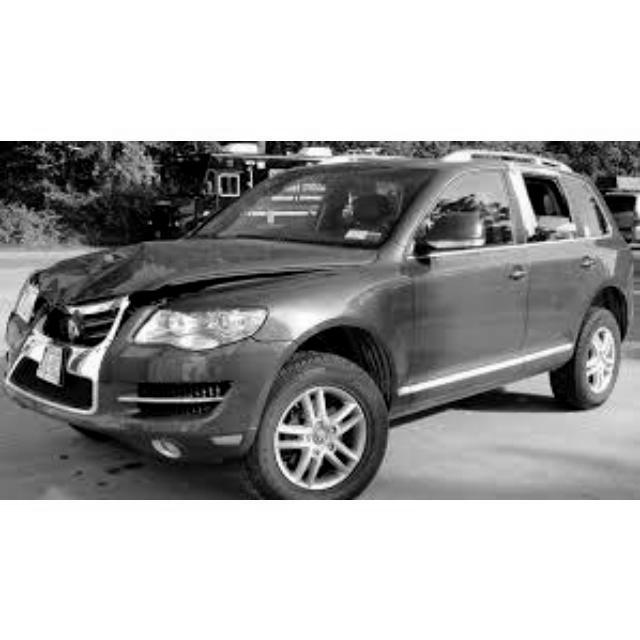bonnet-dent: (48, 226, 247, 305)
front-bumper-dent: (1, 314, 182, 421)
